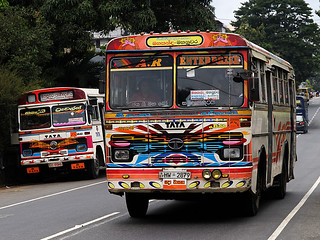bus: (98, 29, 297, 216), (16, 86, 107, 178)
